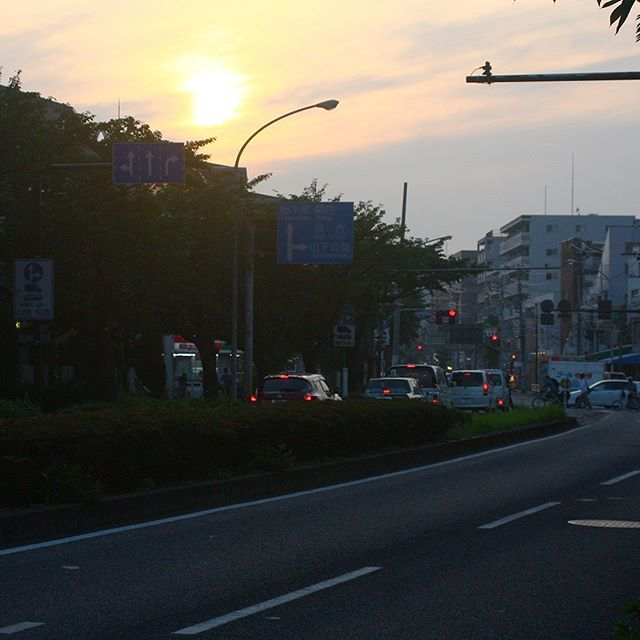building: (476, 207, 640, 375)
car: (247, 368, 345, 408), (364, 360, 445, 408), (445, 365, 508, 413)
sign: (267, 198, 364, 272), (101, 133, 196, 188), (8, 249, 57, 323)
sky: (27, 1, 640, 195)
sun: (183, 63, 258, 133)
tree: (21, 422, 640, 637)
